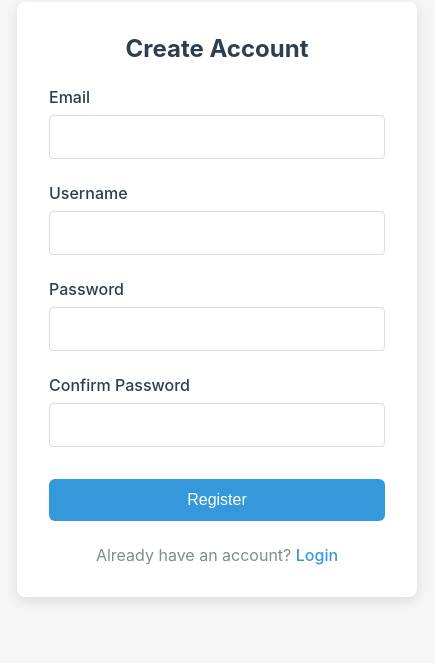
Test: Register Component › shows error when passwords do not match
The image size is (435, 663).
Type "test@example.com" into the field labelled "Email" at {"x": 217, "y": 137}, box left=49, top=115, right=385, bottom=159
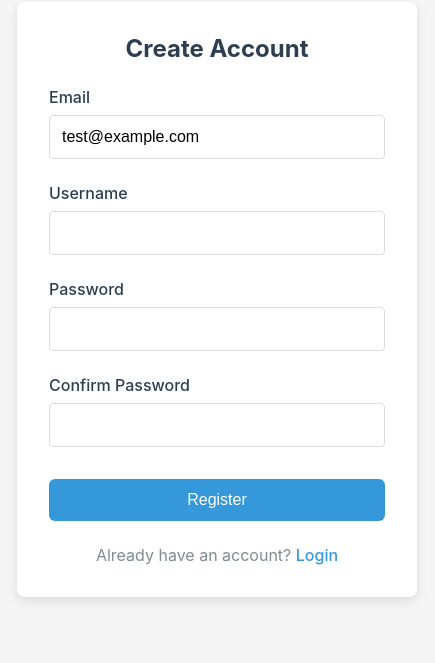
Type "testuser" into the field labelled "Username" at {"x": 217, "y": 233}, box left=49, top=211, right=385, bottom=255
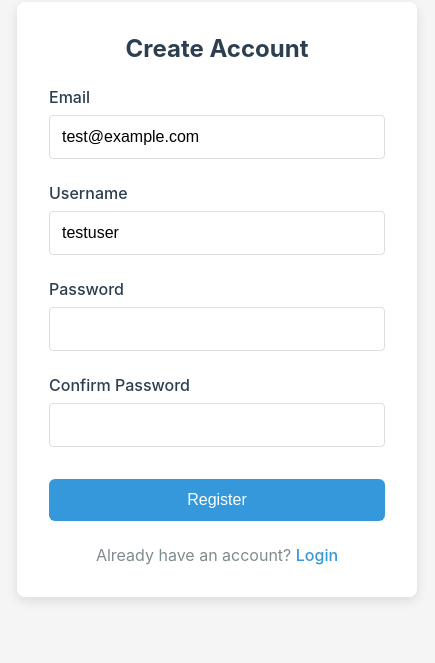
Type "password123" into the password field labelled "Password" at {"x": 217, "y": 329}, box left=49, top=307, right=385, bottom=351
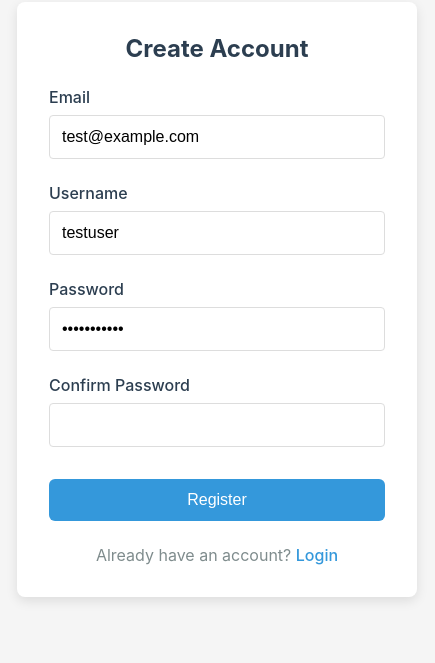
Type "different" into the password field labelled "Confirm Password" at {"x": 217, "y": 425}, box left=49, top=403, right=385, bottom=447
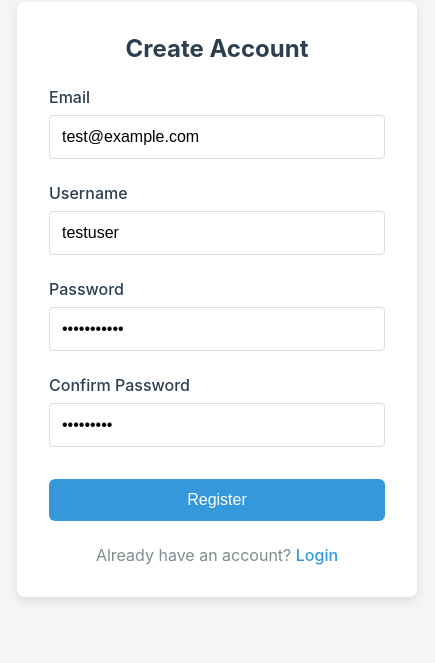
Click the button "Register" at {"x": 217, "y": 500}, box left=49, top=479, right=385, bottom=521
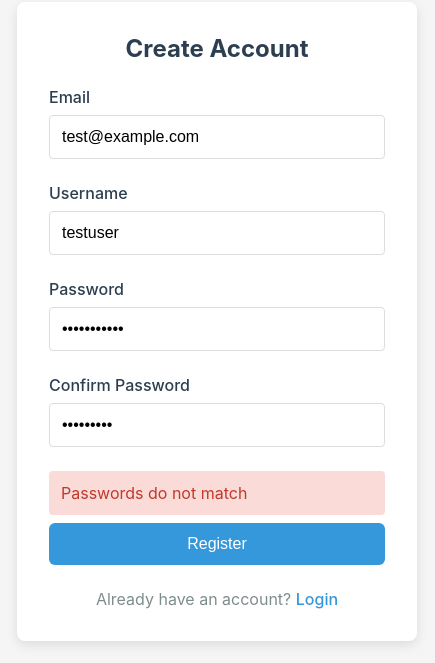
Expected: the text "Passwords do not match" is shown, left=49, top=471, right=385, bottom=515
